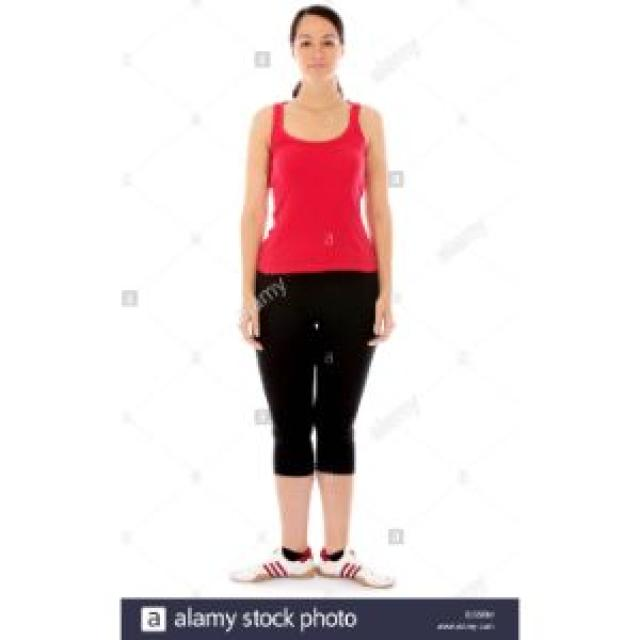adult: (192, 4, 418, 595)
